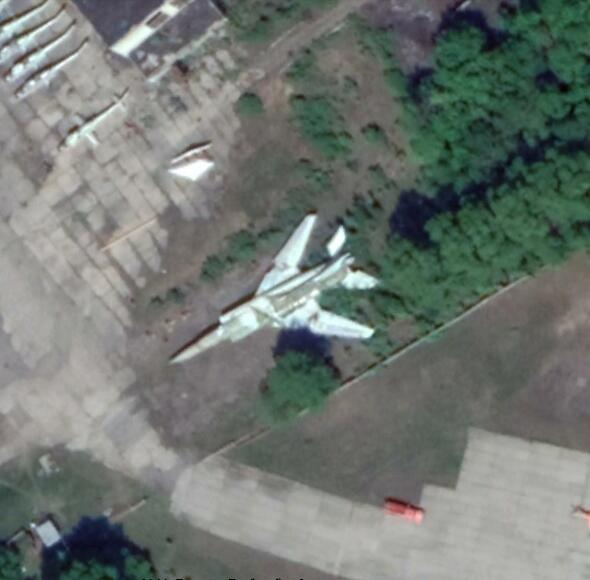A12: (162, 210, 381, 368)
